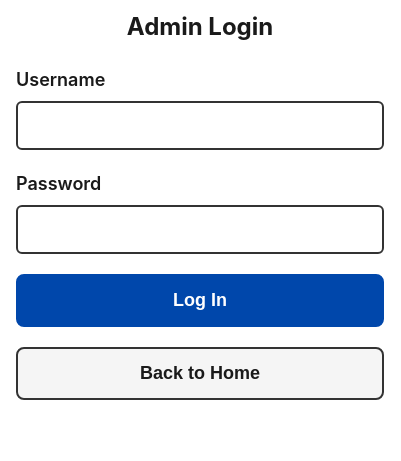
Test case: Admin Login Page › shows error message on invalid credentials
The image size is (401, 461).
Type "wrong" into the field labelled "Username" at (200, 126), box [16,101,384,150]
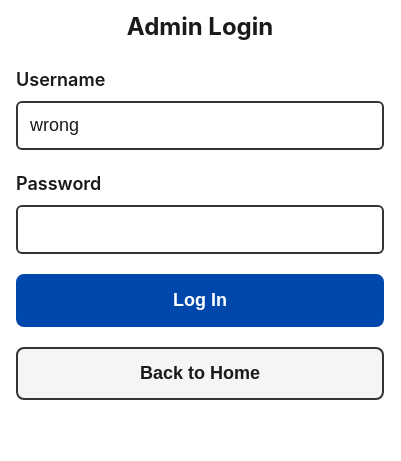
Type "wrong" into the password field labelled "Password" at (200, 230), box [16,205,384,254]
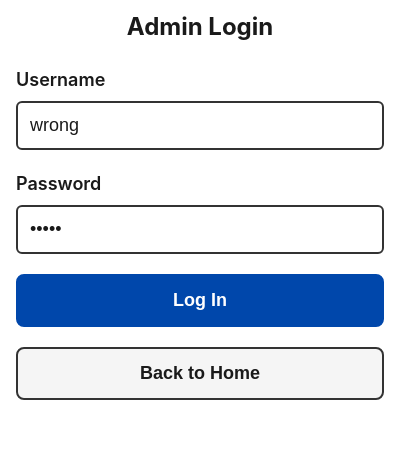
Click the button "Log In" at (200, 301), box [16,274,384,327]
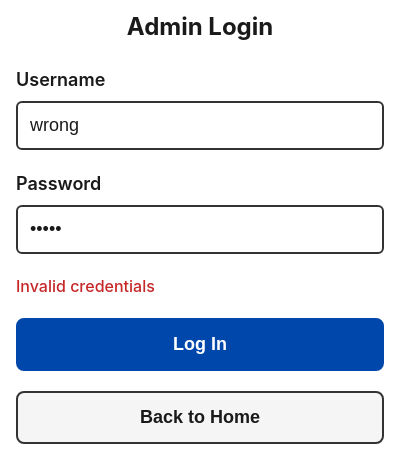
Check: the message reads "Invalid credentials", box [16,276,155,296]
